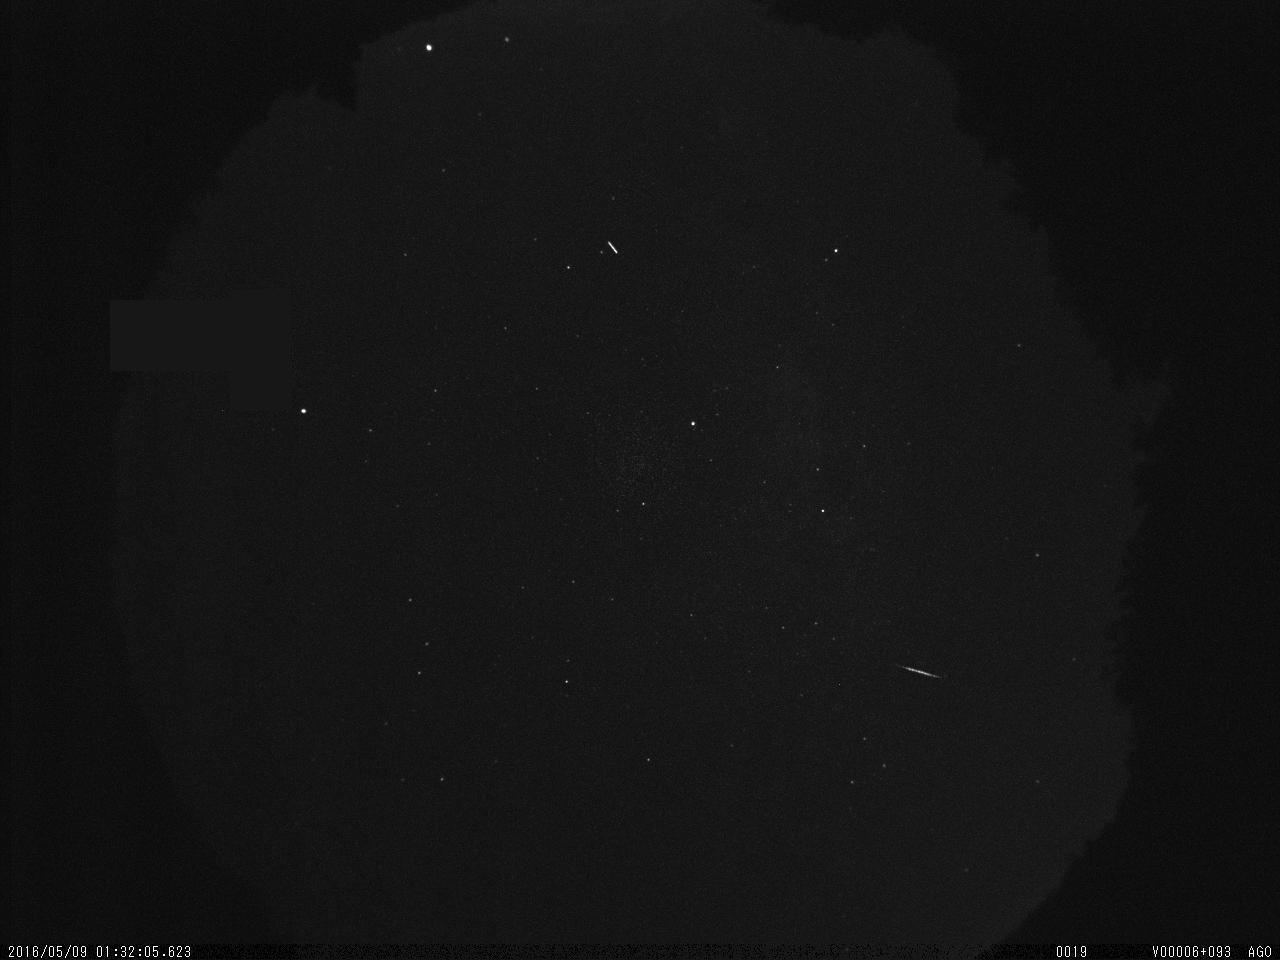meteor: (882, 644, 959, 689)
